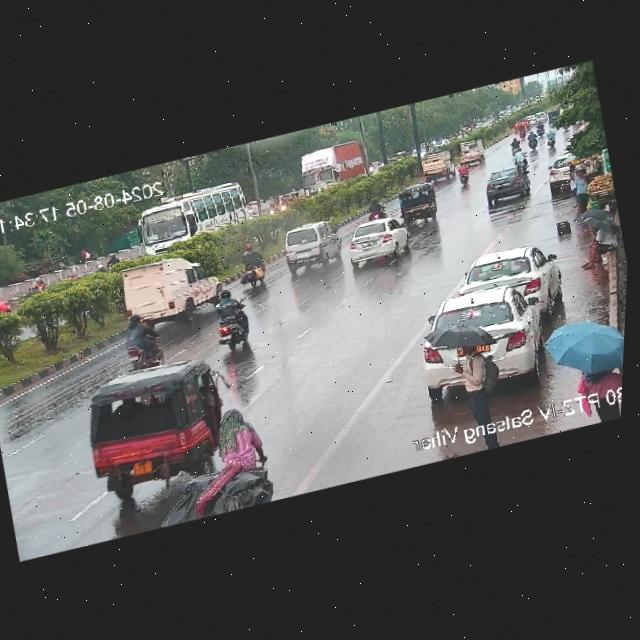bus: (131, 180, 252, 255)
car: (66, 349, 248, 503), (405, 283, 546, 398), (446, 239, 558, 304), (277, 219, 344, 276), (343, 213, 415, 265), (390, 184, 440, 225), (484, 163, 533, 203), (452, 139, 487, 170)
motorcycle: (198, 394, 288, 514), (202, 287, 256, 355), (114, 318, 171, 374), (230, 239, 270, 289), (450, 162, 476, 186), (362, 198, 387, 222), (540, 130, 556, 150)
person: (553, 311, 625, 391), (443, 333, 508, 421), (573, 217, 624, 268), (567, 166, 595, 212)
truck: (109, 246, 228, 331), (288, 138, 371, 196), (415, 151, 456, 182)
